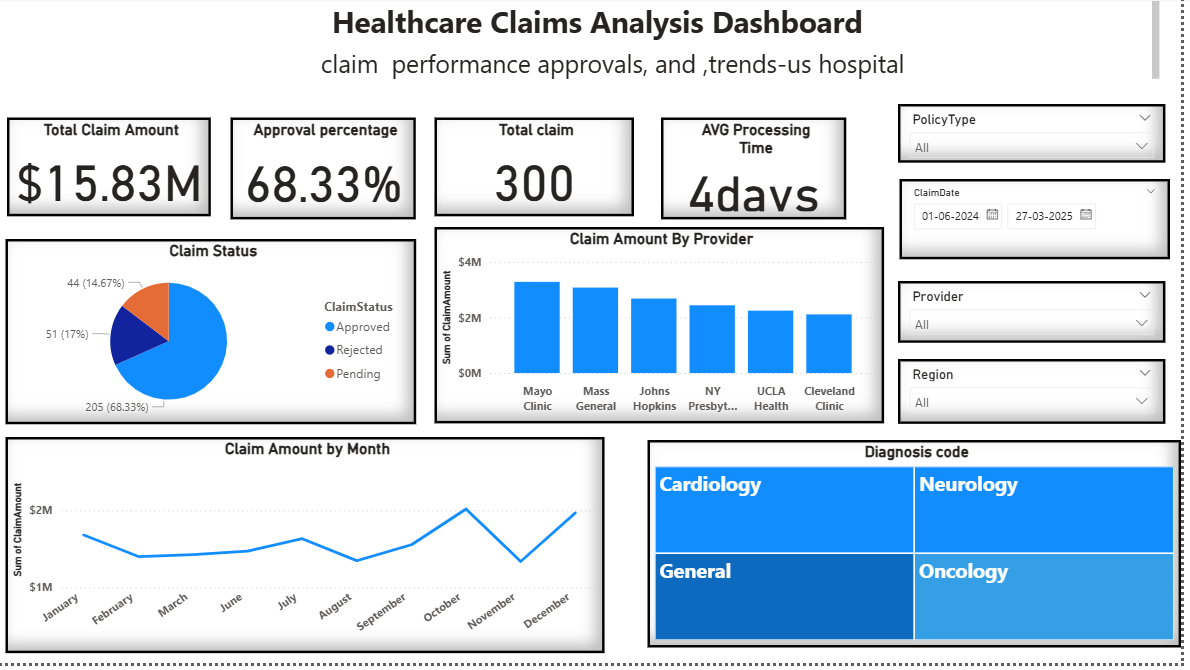

The page's visual inventory and layout, read from the dashboard file:
{"tool":"powerbi","page":{"name":"Page 1","canvas":[1280,720],"ordinal":0},"visuals":[{"type":"card","title":"Total claim","fields":{"Values":["CountNonNull(Claims.ClaimStatus)"]},"box":[475,131.7,215,106.7],"z":0},{"type":"card","title":"AVG Processing Time","fields":{"Values":["Claims.Avg Processing Time"]},"box":[718.3,131.7,200,110],"z":1000},{"type":"lineChart","title":"Claim Amount by Month","fields":{"Y":["Sum(Claims.ClaimAmount)"],"Category":["Claims.ClaimDate.Variation.Date Hierarchy.Month"]},"box":[11.7,476.7,646.7,233.3],"z":2000},{"type":"pieChart","title":"Claim Status","fields":{"Category":["Claims.ClaimStatus"],"Y":["CountNonNull(Claims.ClaimStatus)"]},"box":[11.7,261.7,443.3,200],"z":3000},{"type":"card","title":"Total Claim Amount","fields":{"Values":["Claims.claim amount"]},"box":[13.3,131.7,220,106.7],"z":4000},{"type":"slicer","fields":{"Values":["Claims.ClaimDate"]},"box":[976.7,198.3,291.7,86.7],"z":5000},{"type":"slicer","fields":{"Values":["Claims.Region"]},"box":[975,391.7,288.3,70],"z":6000},{"type":"slicer","fields":{"Values":["Claims.Provider"]},"box":[975,308.3,288.3,66.7],"z":7000},{"type":"slicer","fields":{"Values":["Patients.PolicyType"]},"box":[975,116.7,288.3,63.3],"z":8000},{"type":"clusteredColumnChart","title":"Claim Amount By Provider","fields":{"Category":["Claims.Provider"],"Y":["Sum(Claims.ClaimAmount)"]},"box":[475,250,485,211.7],"z":9000},{"type":"card","title":"Approval percentage","fields":{"Values":["Claims.approved rate"]},"box":[255,131.7,200,110],"z":10000},{"type":"treemap","title":"Diagnosis code","fields":{"Values":["CountNonNull(Claims.DiagnosisCode)"],"Group":["Providers.Specialty"]},"box":[704,480,576,224],"z":11000},{"type":"textbox","box":[46.7,0,1215,103.3],"z":12000}]}

Visuals, with their boxes in screenshot pixels (x1, y1, x2, y2), scaled from the page's 1280x720 canvas onto the 1190x670 screenshot:
"Total claim" card: {"left": 442, "top": 123, "right": 641, "bottom": 222}
"AVG Processing Time" card: {"left": 668, "top": 123, "right": 854, "bottom": 225}
"Claim Amount by Month" lineChart: {"left": 11, "top": 444, "right": 612, "bottom": 661}
"Claim Status" pieChart: {"left": 11, "top": 244, "right": 423, "bottom": 430}
"Total Claim Amount" card: {"left": 12, "top": 123, "right": 217, "bottom": 222}
slicer - Claims.ClaimDate: {"left": 908, "top": 185, "right": 1179, "bottom": 265}
slicer - Claims.Region: {"left": 906, "top": 364, "right": 1174, "bottom": 430}
slicer - Claims.Provider: {"left": 906, "top": 287, "right": 1174, "bottom": 349}
slicer - Patients.PolicyType: {"left": 906, "top": 109, "right": 1174, "bottom": 168}
"Claim Amount By Provider" clusteredColumnChart: {"left": 442, "top": 233, "right": 892, "bottom": 430}
"Approval percentage" card: {"left": 237, "top": 123, "right": 423, "bottom": 225}
"Diagnosis code" treemap: {"left": 654, "top": 447, "right": 1189, "bottom": 655}
textbox: {"left": 43, "top": 0, "right": 1173, "bottom": 96}
